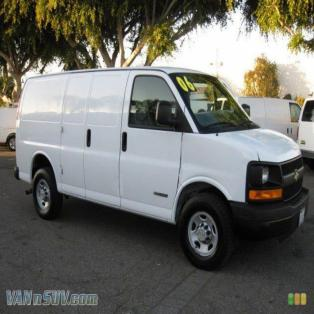Auto: (12, 65, 312, 274)
